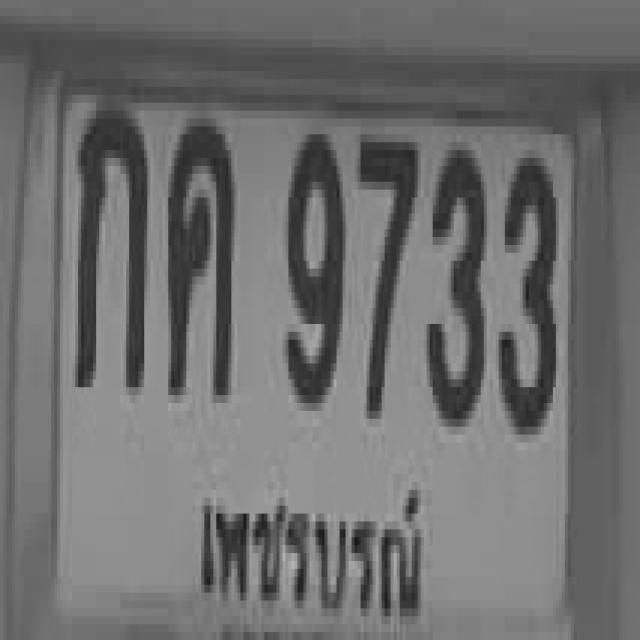10GorGai: (72, 103, 144, 387)
13KhorKhwai: (166, 115, 232, 391)
3: (424, 142, 484, 419), (496, 150, 553, 427)
7: (356, 134, 413, 411)
9: (282, 126, 342, 403)
Phetchabun: (194, 453, 431, 632)
